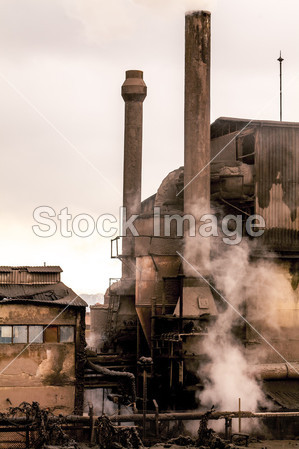dust: (183, 258, 292, 419)
